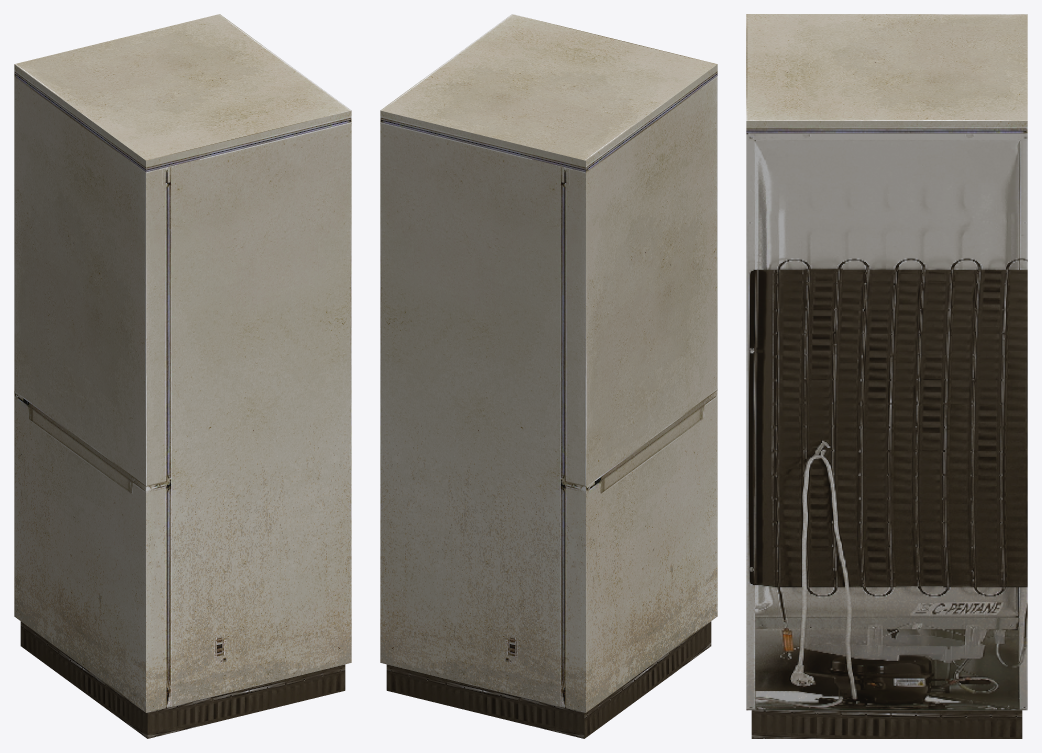
Rendered from fridge_1.fbx.
3 renders of one model, left to right at view 1: azimuth 30°, elevation 25°; view 2: azimuth 150°, elevation 25°; view 3: azimuth 270°, elevation 25°, orthographic. The views are drawn at different scales.
Parts seen in each view (by area): view 1: Cube.007; view 2: Cube.007; view 3: Cube.007.
Boxes of the visible parts, x1=… form: Cube.007: x1=14, y1=14, x2=351, y2=738; Cube.007: x1=380, y1=14, x2=717, y2=738; Cube.007: x1=746, y1=14, x2=1027, y2=738.
Size of the model in its own units: 50.89 by 137 by 56.54.
